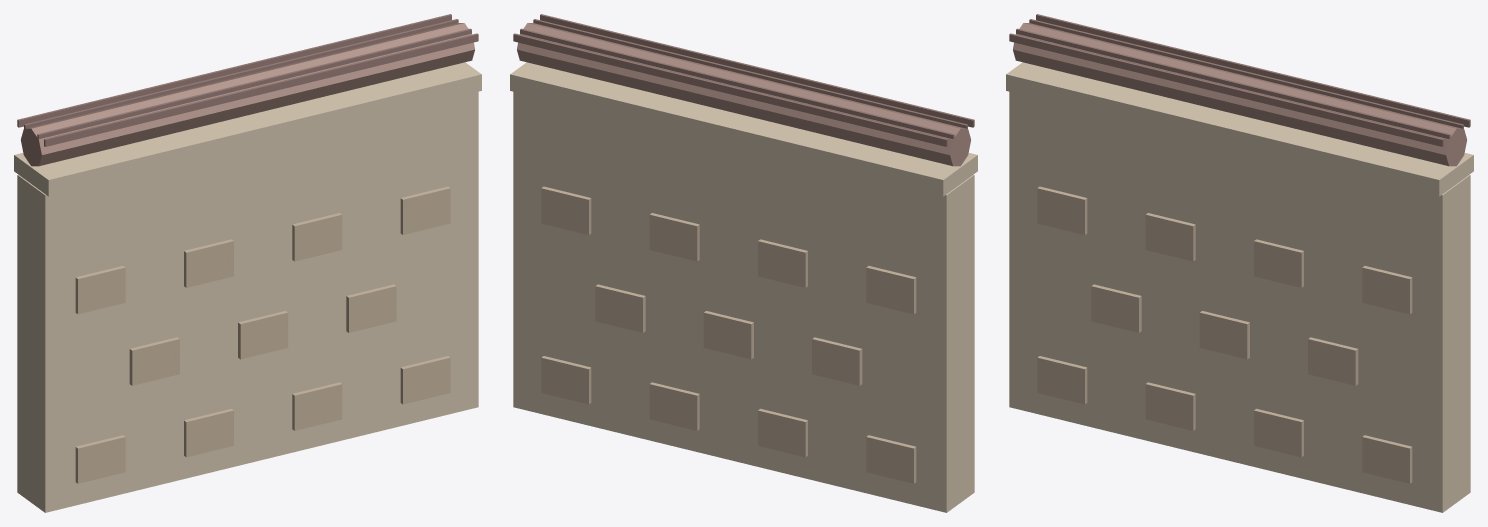
The model's file is wall.glb.
3 views of the same model, side by side, from view 1: azimuth 30°, elevation 25°; view 2: azimuth 150°, elevation 25°; view 3: azimuth 330°, elevation 25° (orthographic).
Visible parts, largest first — view 1: WallBody, WallCap, Tile_0, TileGroove_0, TileGroove_4, TileGroove_1, TileGroove_3, Brick_6, Brick_0, Brick_12, Brick_18, Brick_4 (+6 smaller); view 2: WallBody, WallCap, Tile_0, TileGroove_4, TileGroove_0, TileGroove_3, TileGroove_1, Brick_7, Brick_1, Brick_13, Brick_19, Brick_5 (+6 smaller); view 3: WallBody, WallCap, Tile_0, TileGroove_0, TileGroove_4, TileGroove_1, TileGroove_3, Brick_0, Brick_6, Brick_8, Brick_16, Brick_2 (+6 smaller).
Part boxes in pixels (bbox=[...]): WallBody: bbox=[17, 91, 478, 512]; WallCap: bbox=[14, 62, 481, 196]; Tile_0: bbox=[21, 23, 474, 166]; TileGroove_0: bbox=[44, 33, 478, 146]; TileGroove_4: bbox=[17, 14, 451, 127]; TileGroove_1: bbox=[37, 28, 471, 141]; TileGroove_3: bbox=[24, 19, 458, 131]; Brick_6: bbox=[400, 356, 450, 404]; Brick_0: bbox=[75, 435, 125, 483]; Brick_12: bbox=[346, 284, 396, 332]; Brick_18: bbox=[292, 213, 342, 261]; Brick_4: bbox=[292, 382, 342, 430]; WallBody: bbox=[513, 91, 974, 512]; WallCap: bbox=[510, 62, 977, 196]; Tile_0: bbox=[517, 23, 970, 166]; TileGroove_4: bbox=[513, 33, 947, 146]; TileGroove_0: bbox=[540, 14, 974, 127]; TileGroove_3: bbox=[520, 28, 954, 140]; TileGroove_1: bbox=[533, 19, 967, 128]; Brick_7: bbox=[541, 356, 591, 404]; Brick_1: bbox=[866, 435, 916, 483]; Brick_13: bbox=[595, 284, 645, 332]; Brick_19: bbox=[649, 213, 699, 261]; Brick_5: bbox=[649, 382, 699, 430]; WallBody: bbox=[1009, 91, 1470, 512]; WallCap: bbox=[1006, 62, 1473, 196]; Tile_0: bbox=[1013, 23, 1466, 166]; TileGroove_0: bbox=[1009, 33, 1443, 146]; TileGroove_4: bbox=[1036, 14, 1470, 127]; TileGroove_1: bbox=[1016, 28, 1450, 139]; TileGroove_3: bbox=[1029, 19, 1463, 131]; Brick_0: bbox=[1037, 356, 1087, 404]; Brick_6: bbox=[1362, 435, 1412, 483]; Brick_8: bbox=[1091, 284, 1141, 332]; Brick_16: bbox=[1145, 213, 1195, 261]; Brick_2: bbox=[1145, 382, 1195, 430].
Size of the model in its own units: 4 by 3.3 by 0.55.
